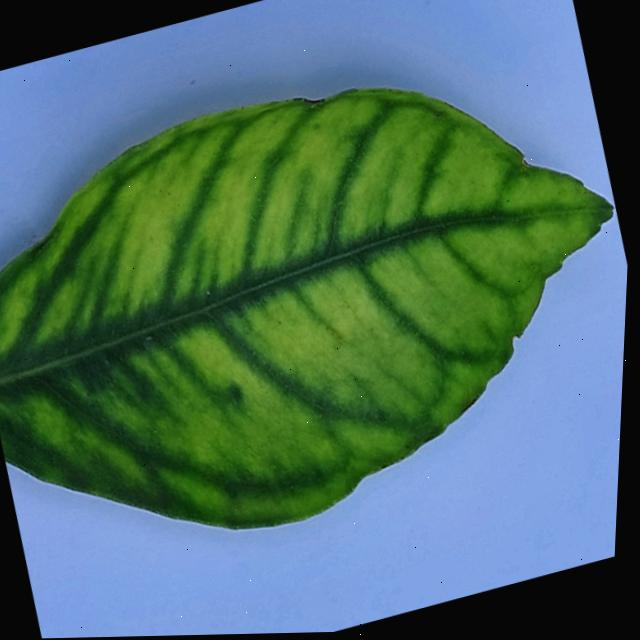greening: (0, 87, 612, 527)
